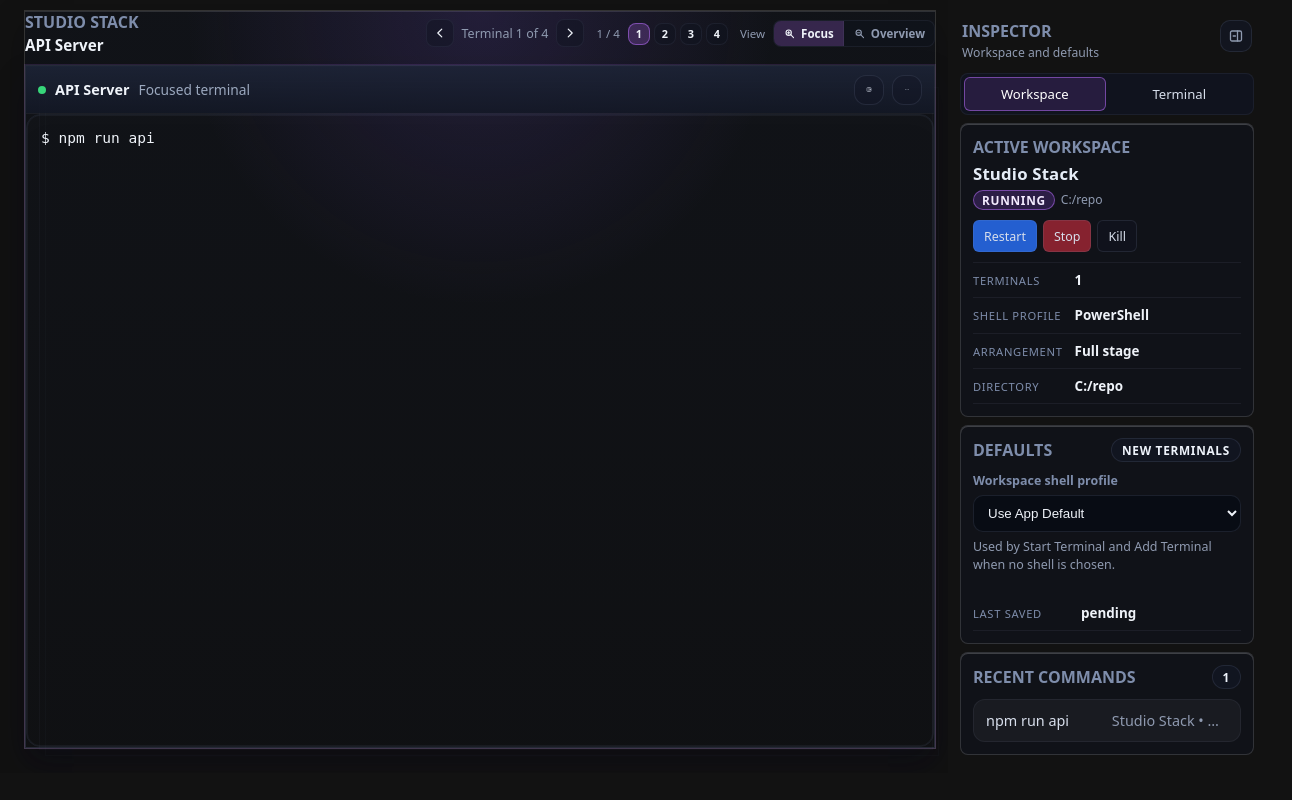
WorkspaceAreaComponent › opens overview with preview cards and returns to focus when a card is selected
This screenshot has width=1292, height=800.
Step 1. Click the button with aria-label "Overview mode" → (889, 33), box [844, 20, 934, 46]
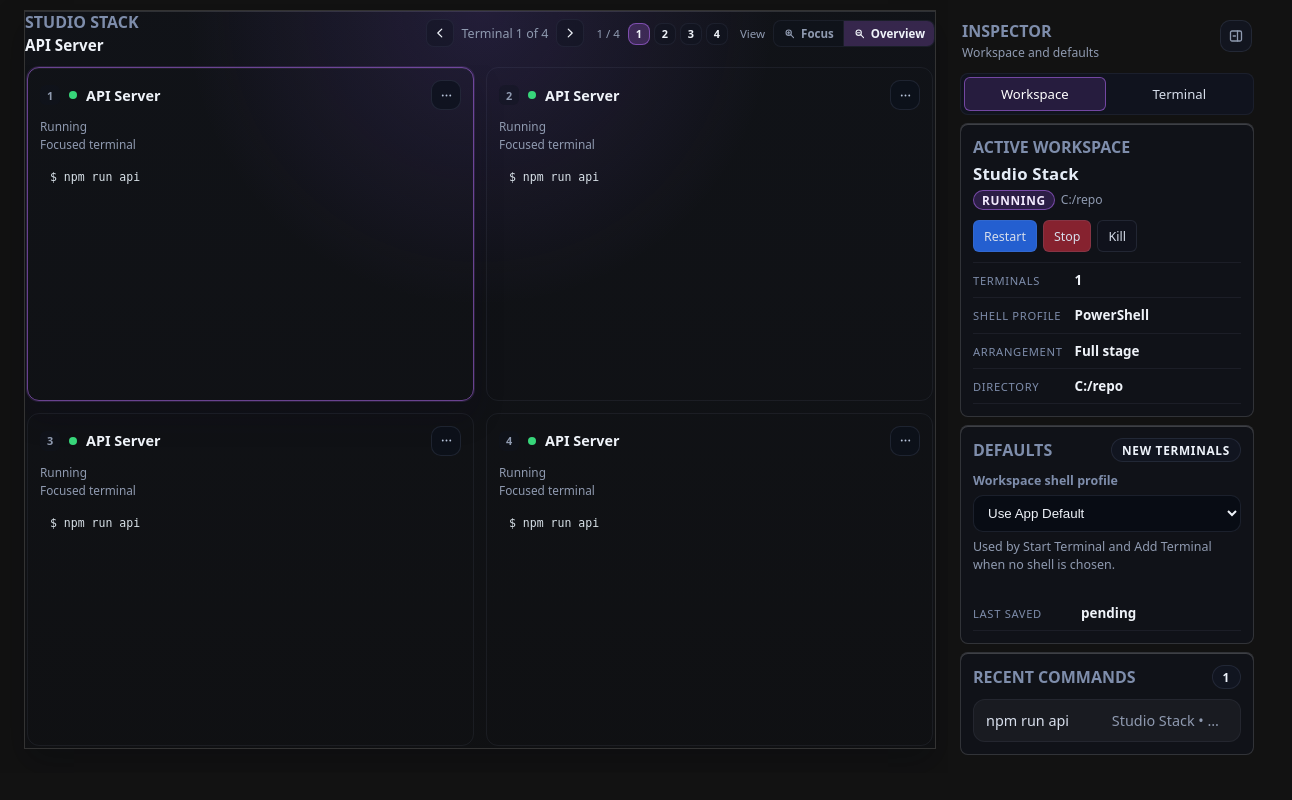
Expected: the element that starts with "API Server" is shown
Step 2. Click the button "3 API Server Running Focused terminal $ npm run api" → (63, 472), box [27, 413, 474, 746]
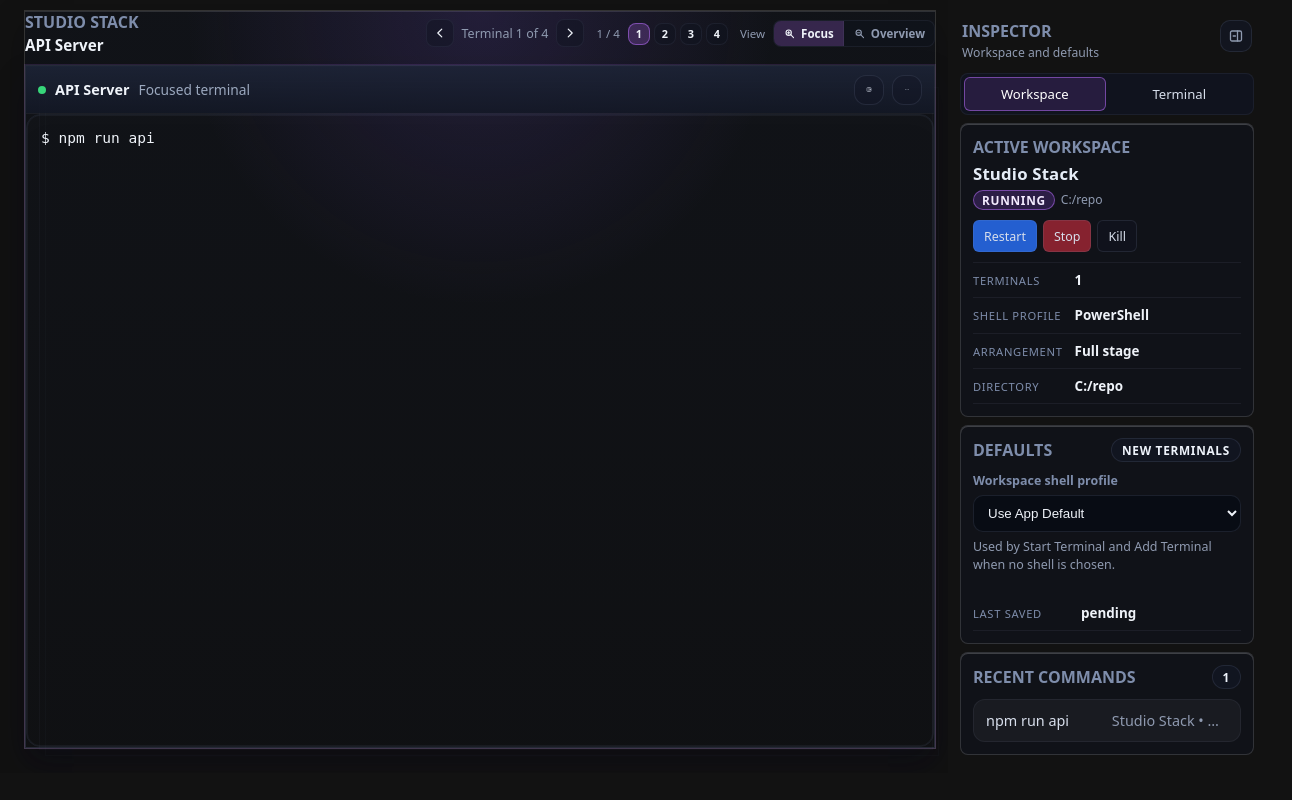
Expected: the element showing "API Server Focused terminal $ npm run api" is shown
